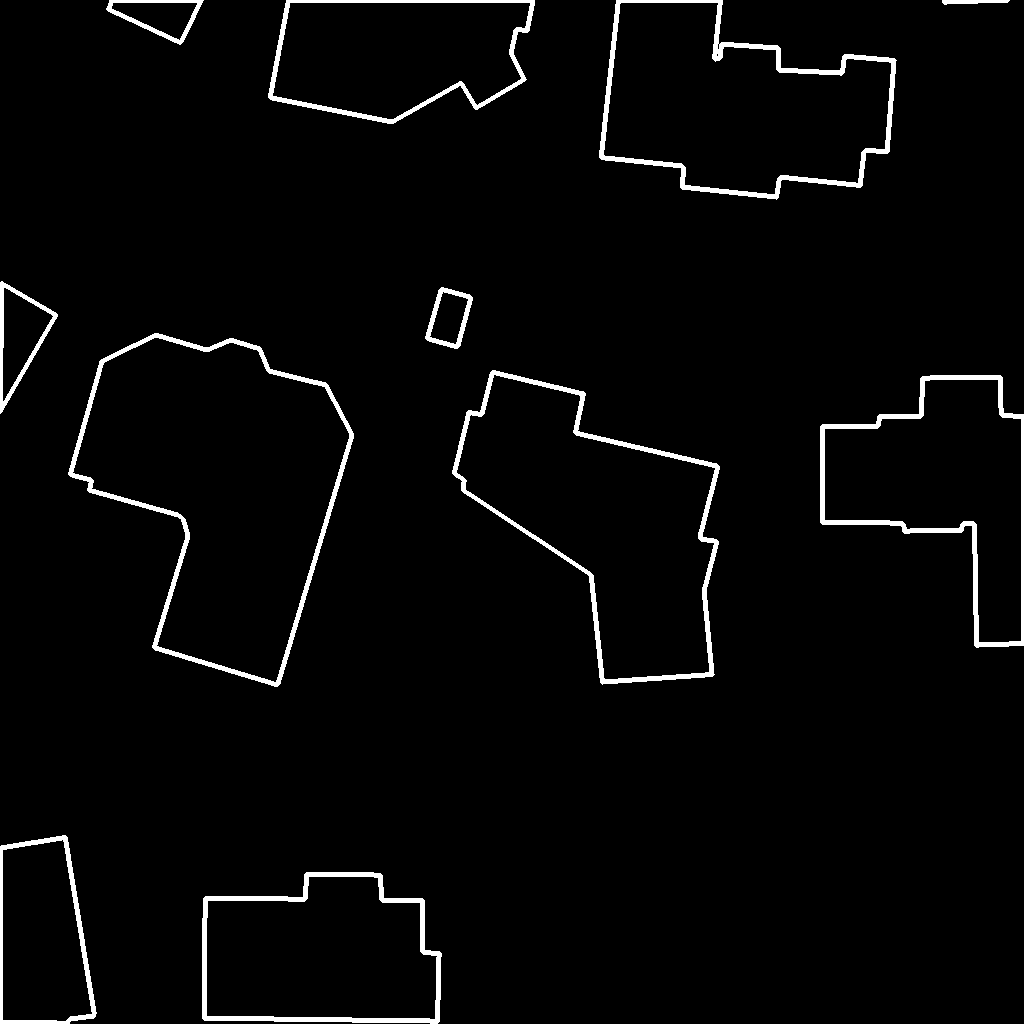building: (70, 335, 353, 686), (454, 372, 719, 683), (601, 0, 895, 198), (822, 377, 1024, 646), (204, 874, 440, 1022), (270, 0, 534, 123), (0, 837, 95, 1024), (0, 283, 57, 413), (108, 0, 203, 44), (427, 289, 472, 348), (944, 0, 1024, 3)
